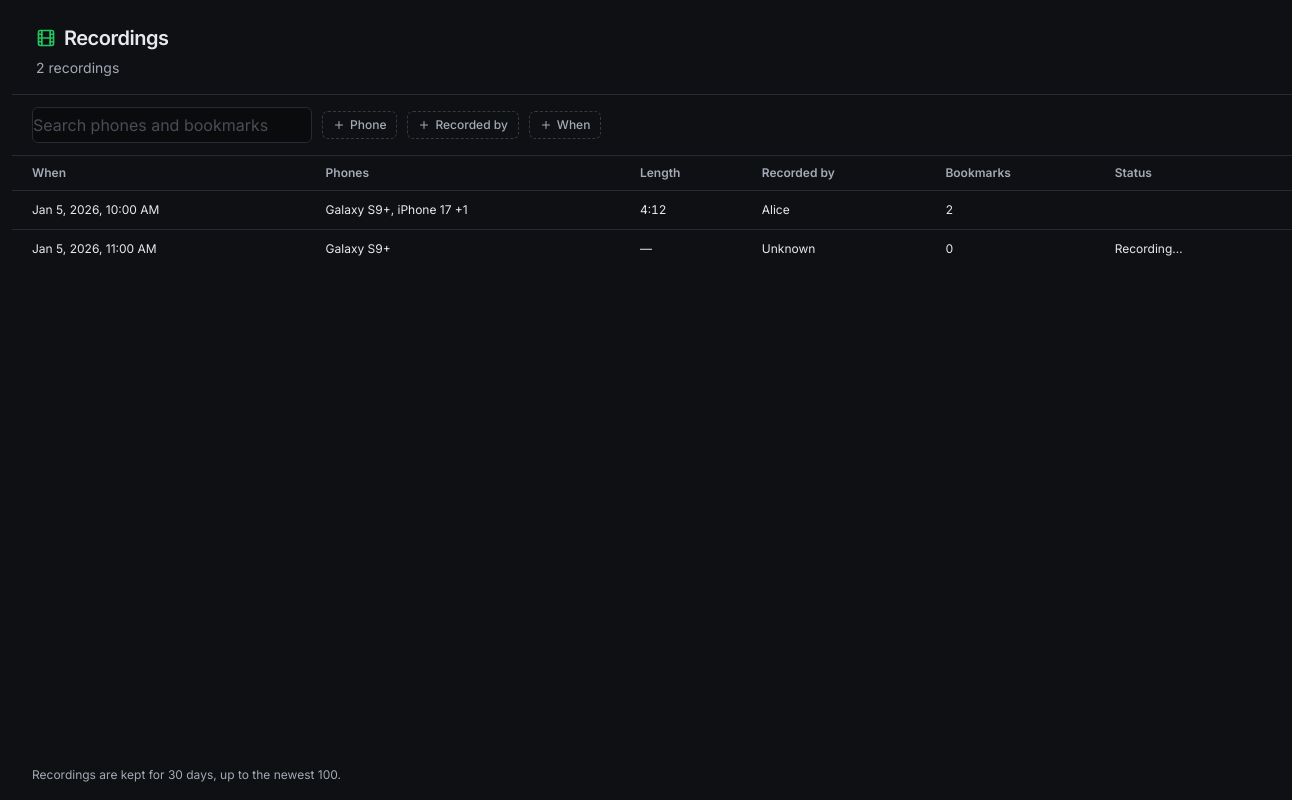
it: RecordingsPage › writes the search box into the q filter
The width and height of the screenshot is (1292, 800).
Check: the text "Galaxy S9+, iPhone 17 +1" is shown, box x1=314 y1=191 x2=628 y2=230
Type "alice" into the field named "Search recordings" at (172,125), box x1=32 y1=107 x2=312 y2=143
(page scrolled)
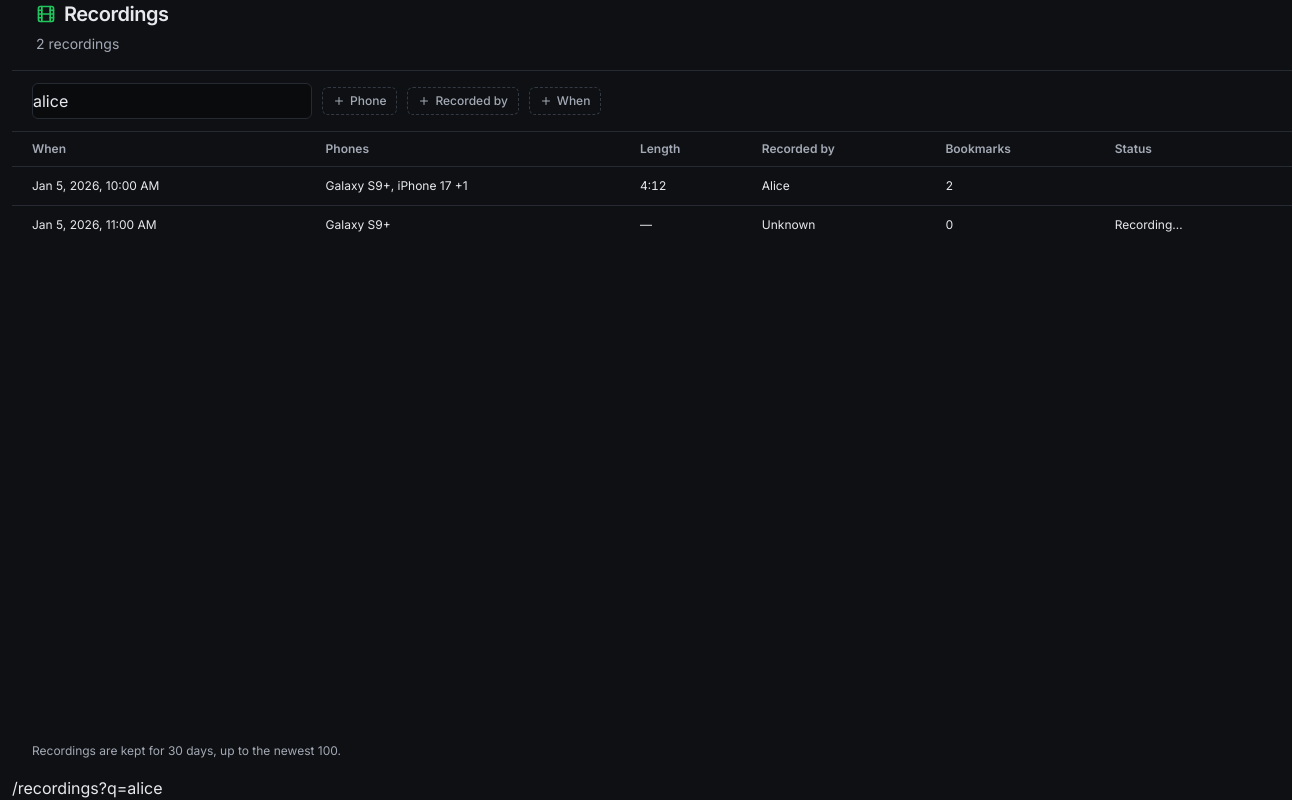
Check: the text with test id "where" reads "/recordings?q=alice", box x1=12 y1=778 x2=162 y2=798
